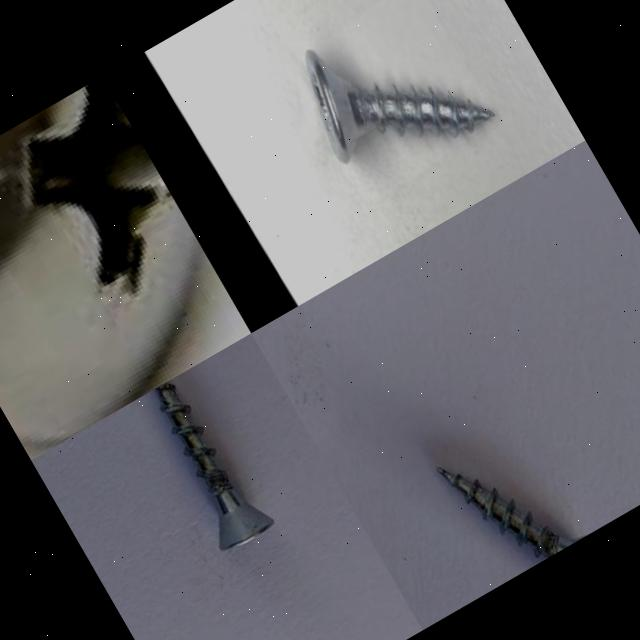Screw: (0, 76, 207, 458), (306, 49, 494, 163), (154, 381, 273, 550), (436, 467, 587, 558)
